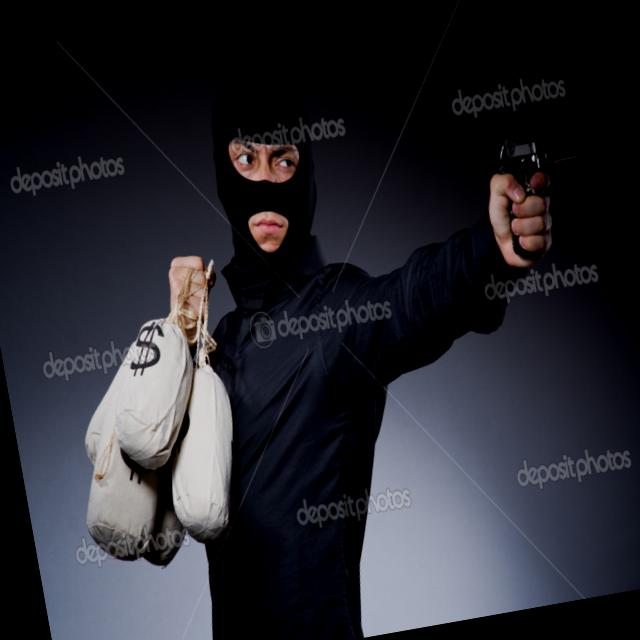handgun: (478, 120, 610, 292)
